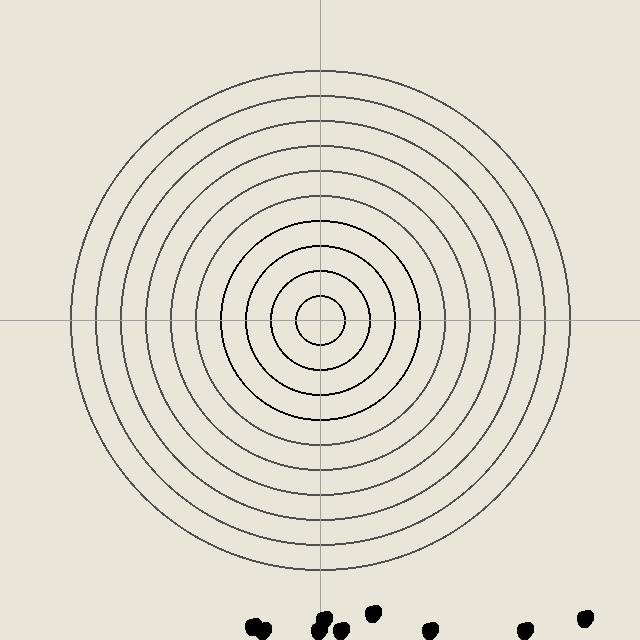horizontal_scatter: (330, 620, 350, 640), (313, 609, 333, 629), (362, 603, 382, 623), (419, 620, 439, 640), (242, 616, 262, 636), (574, 608, 594, 628), (252, 620, 272, 640), (514, 620, 534, 640), (308, 620, 328, 640)
